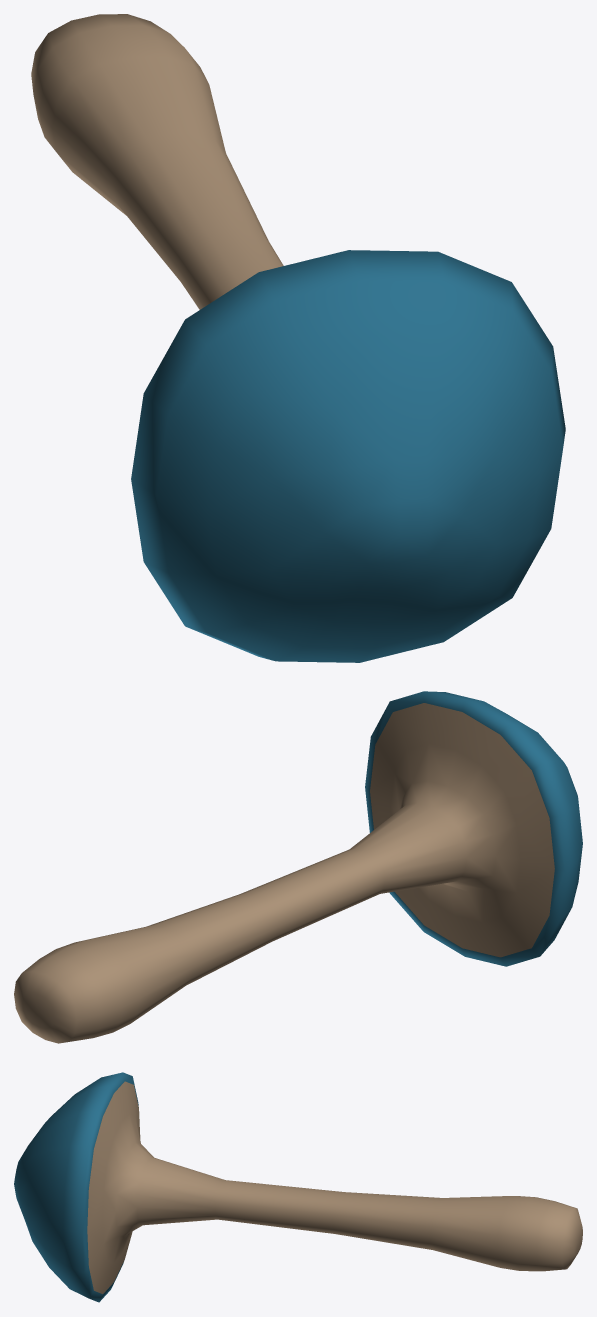
File: Mushroom.fbx
3 renders of one model, top to bottom at view 1: azimuth 30°, elevation 25°; view 2: azimuth 150°, elevation 25°; view 3: azimuth 270°, elevation 25°, orthographic. The views are drawn at different scales.
Visible parts, largest first — view 1: Mushroom; view 2: Mushroom; view 3: Mushroom.
Boxes of the visible parts, x1,y1,x2,y2 form: Mushroom: (31, 14, 565, 662); Mushroom: (14, 691, 582, 1043); Mushroom: (14, 1072, 582, 1302).
Size of the model in its own units: 90.52 by 77.02 by 195.
